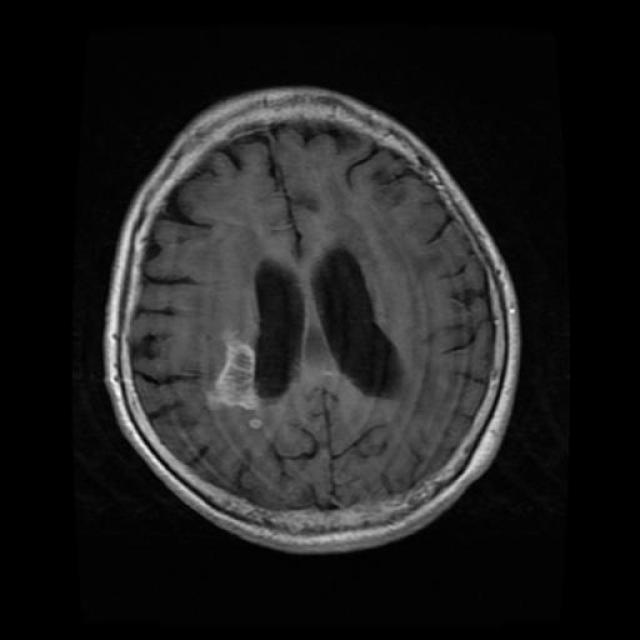brain_tumor: (206, 340, 259, 409)
